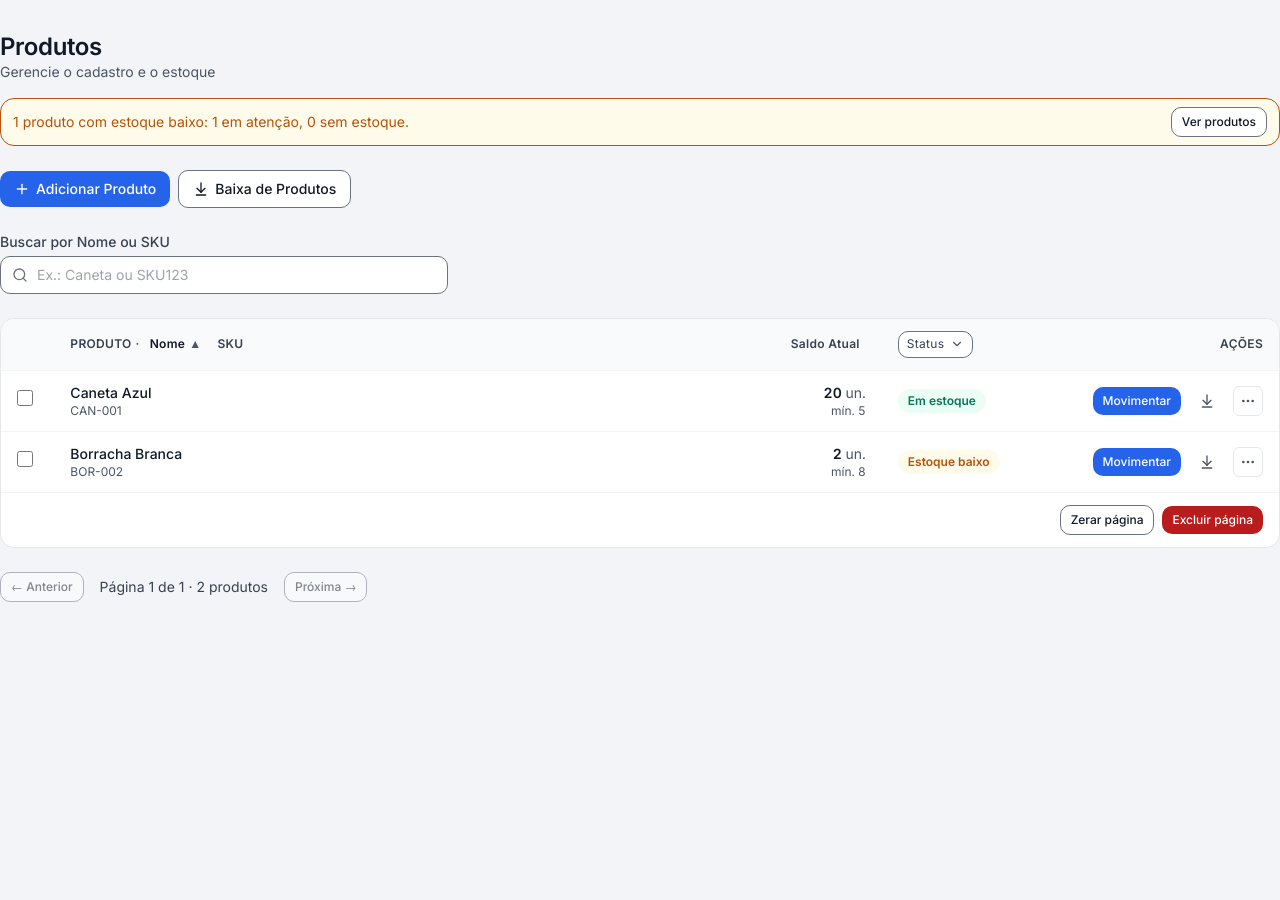
Test: ProductDashboard — cada ação de linha abre o diálogo correspondente (PD-2) › PD-2 · "Ajustar Estoque" abre o diálogo de ajuste
Expected: the checkbox named "Selecionar Caneta Azul" is shown, x1=17 y1=390 x2=33 y2=406
What coordinates should you click on to do the following:
click the button named "Mais ações para Caneta Azul"
I would click on:
 (1248, 401)
Its box is x1=1233 y1=386 x2=1263 y2=416.
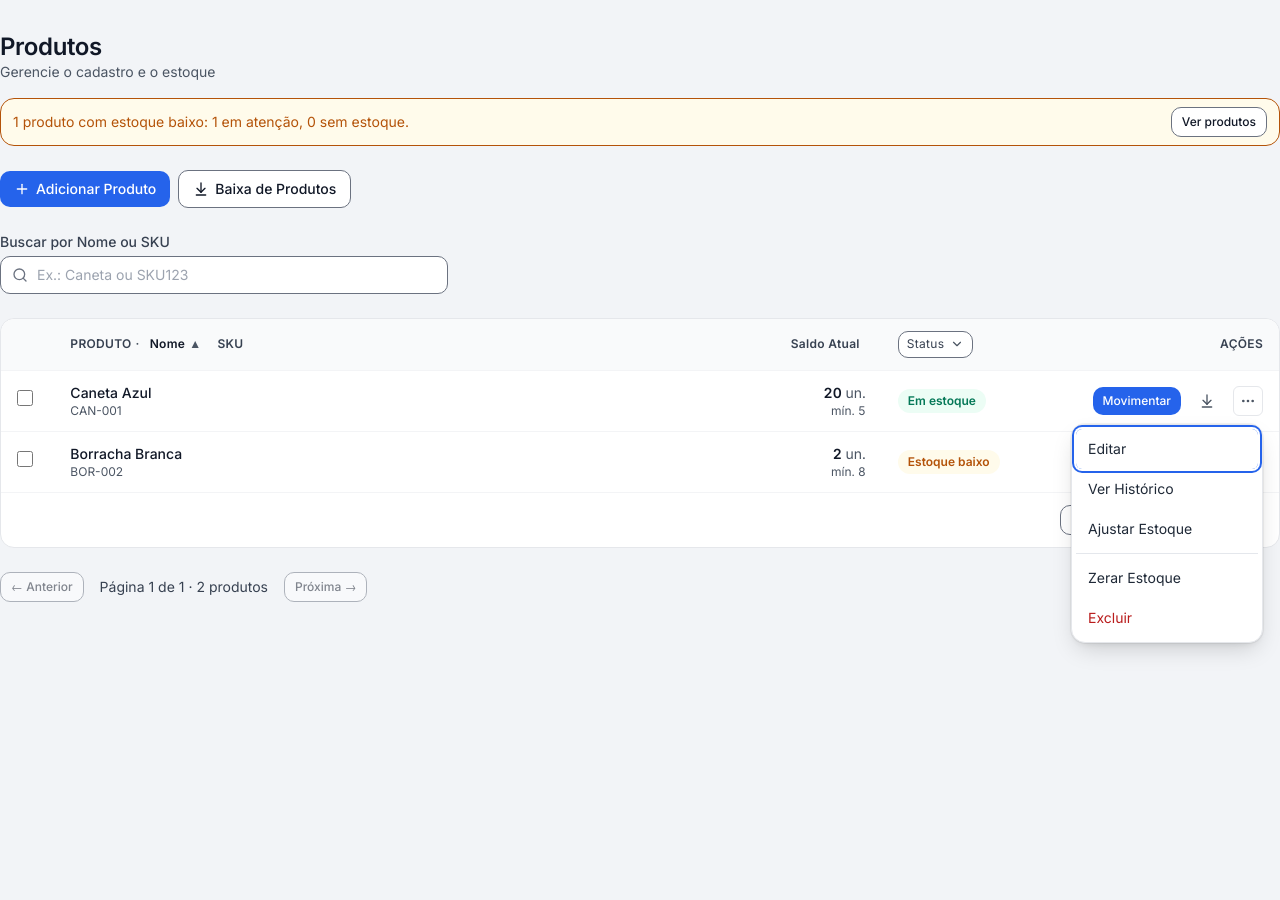
What coordinates should you click on to do the following:
click the menu item "Ajustar Estoque"
I would click on:
 (1167, 529)
Its box is x1=1076 y1=509 x2=1258 y2=549.
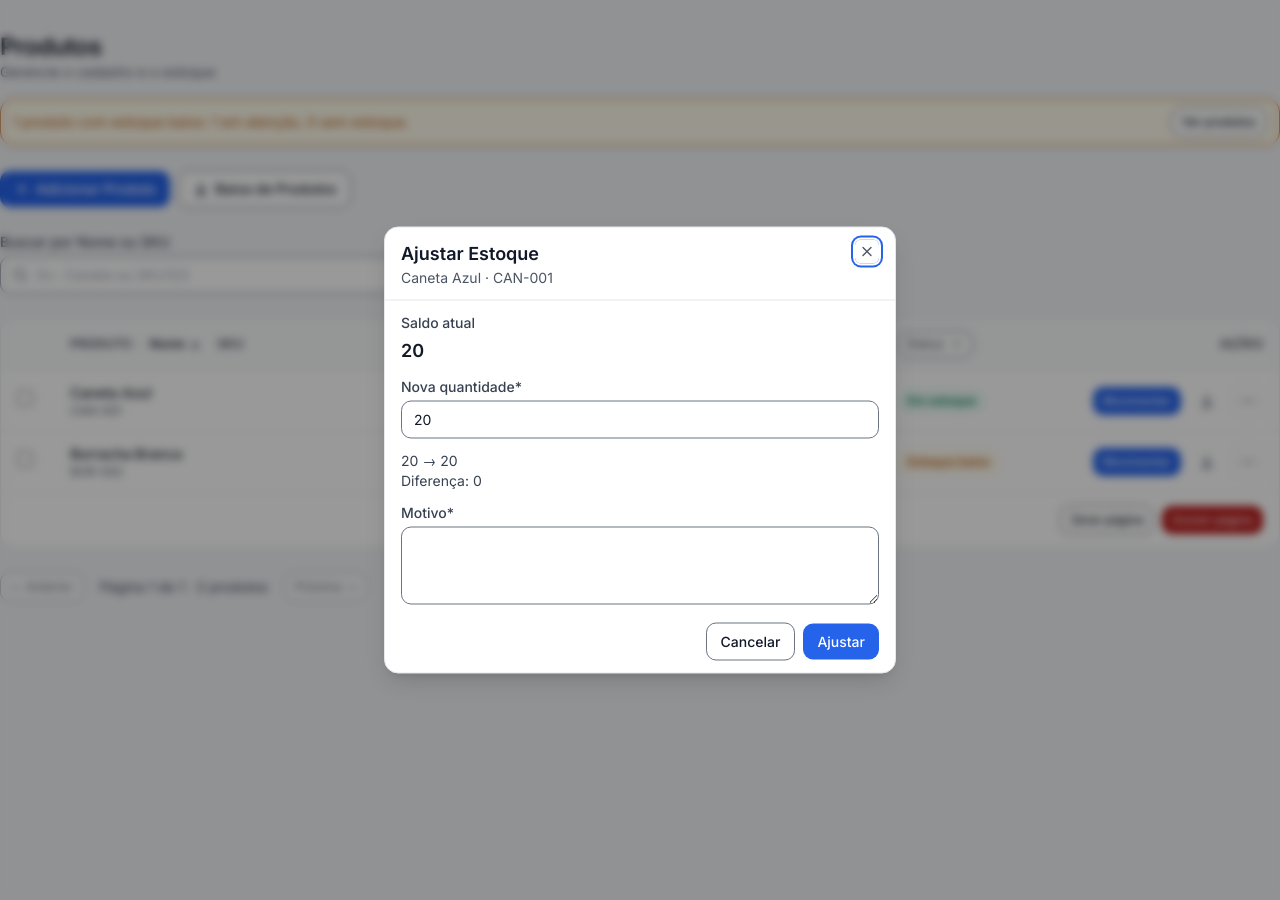
Expected: the dialog "Ajustar Estoque" is shown, x1=384 y1=226 x2=896 y2=674
